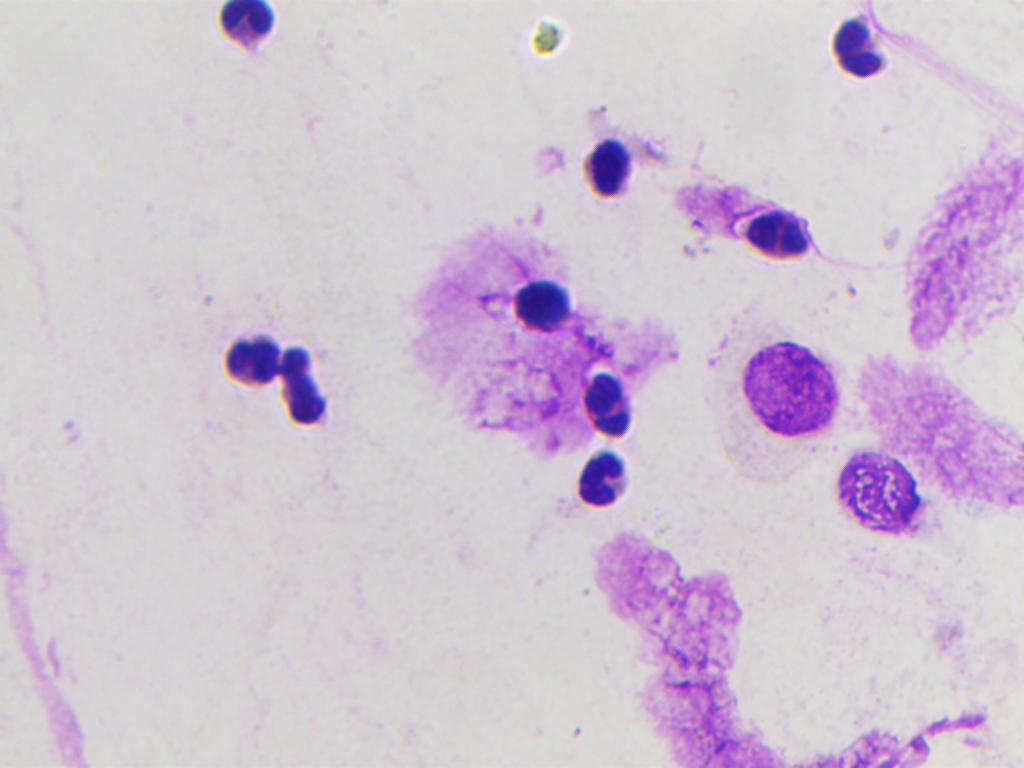artifact: (524, 19, 567, 57)
epithelial: (741, 338, 840, 444), (822, 447, 924, 533)
neutrophil: (669, 180, 815, 265), (572, 110, 636, 201), (825, 3, 889, 86), (566, 445, 629, 529), (215, 317, 279, 399), (274, 340, 338, 422), (513, 282, 595, 344), (577, 360, 637, 436), (216, 1, 283, 50)
